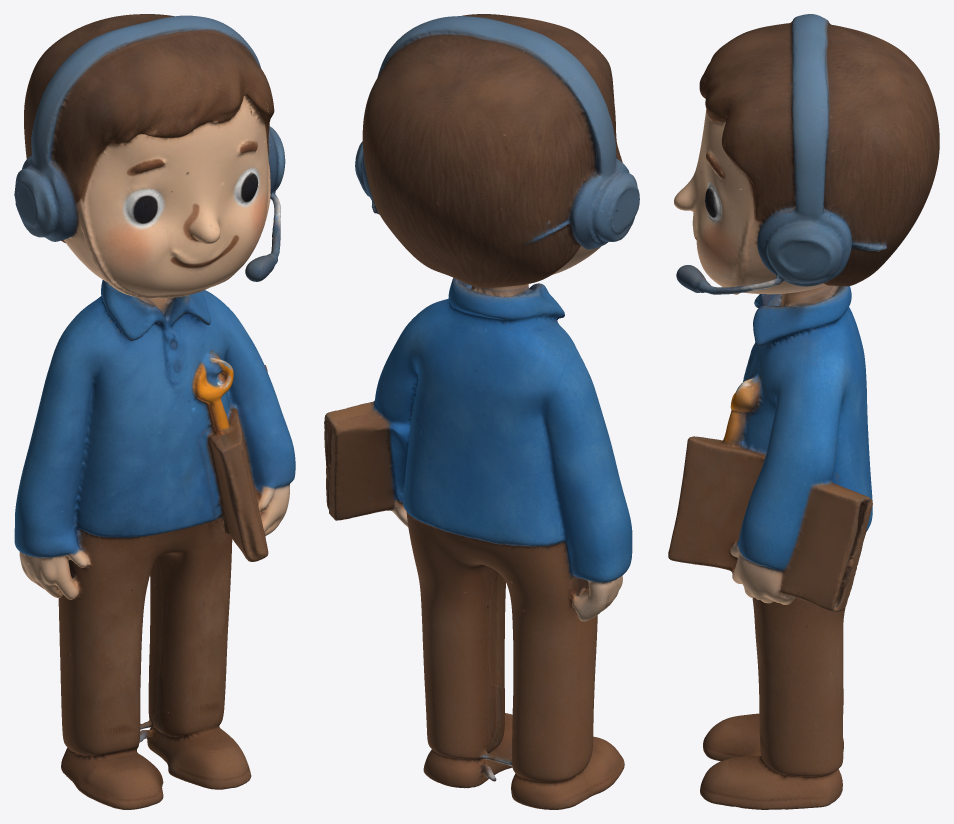
File: Tiny_Technician.glb
3 views of the same model, side by side, from view 1: azimuth 30°, elevation 25°; view 2: azimuth 150°, elevation 25°; view 3: azimuth 270°, elevation 25° (orthographic). The views are drawn at different scales.
Size of the model in its own units: 0.799 by 2 by 0.6615.
1 material, 1 textured.
